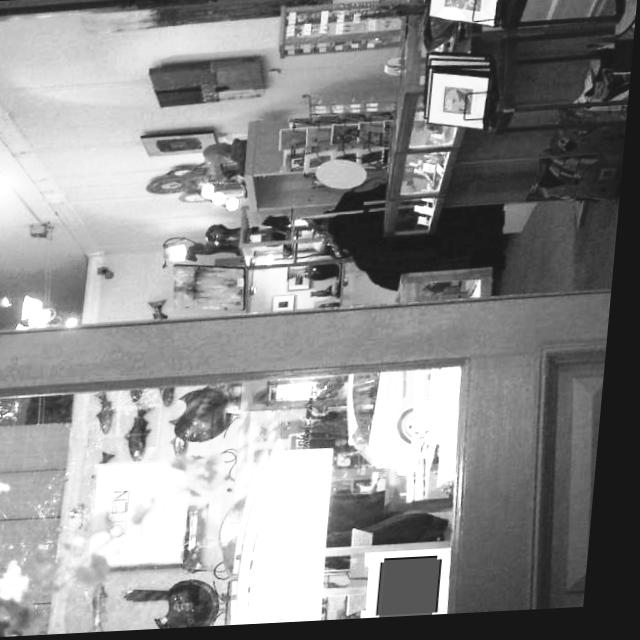qr_code: (389, 562, 451, 621)
